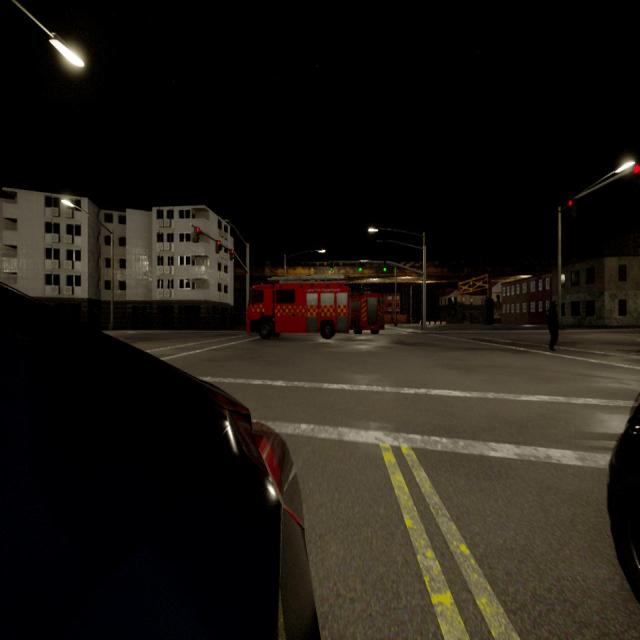Pedestrian: (546, 301, 559, 350)
Vehicle: (0, 284, 316, 637), (607, 391, 640, 599), (246, 280, 349, 338), (353, 293, 384, 333)
traffic_light: (194, 227, 200, 242), (633, 164, 640, 173), (216, 241, 220, 253), (230, 249, 233, 261), (359, 262, 362, 272), (331, 262, 334, 272), (568, 200, 572, 206), (384, 262, 386, 271)
